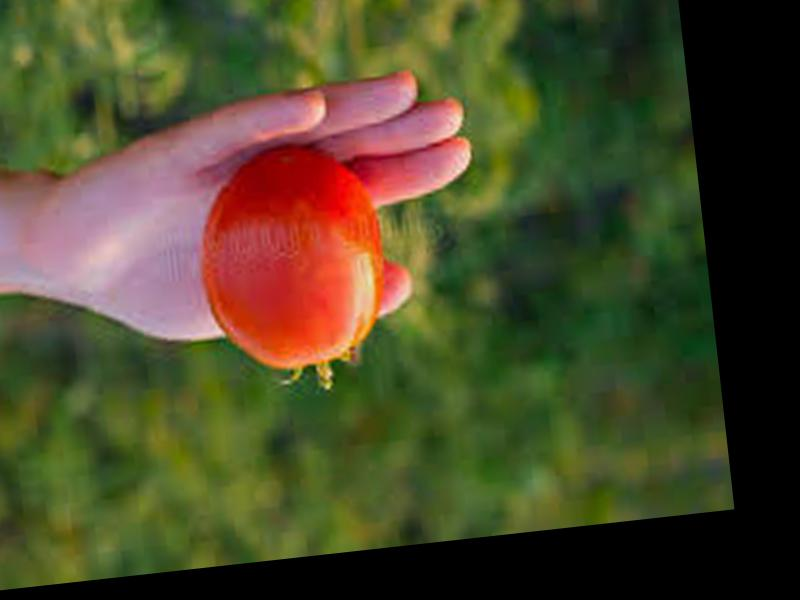Tomato: (191, 133, 391, 374)
